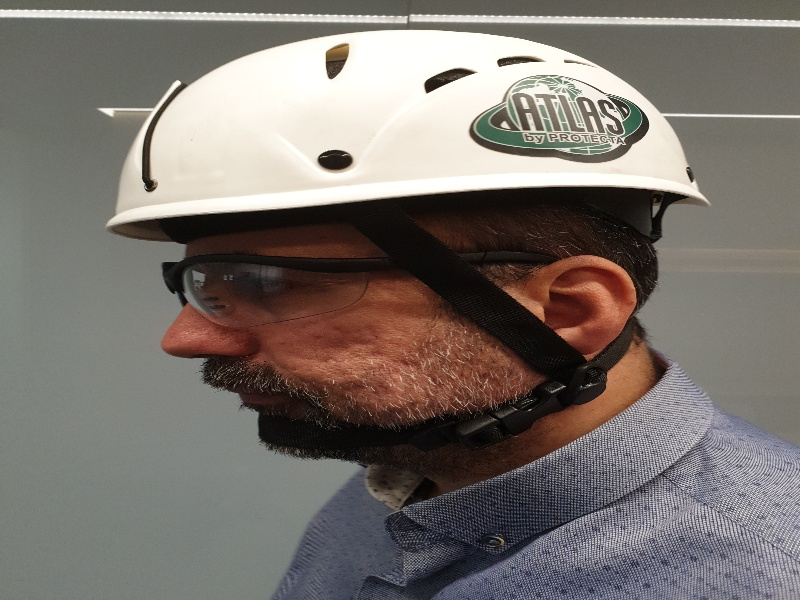Baret: (100, 29, 707, 216)
Gozluk: (153, 248, 557, 329)
